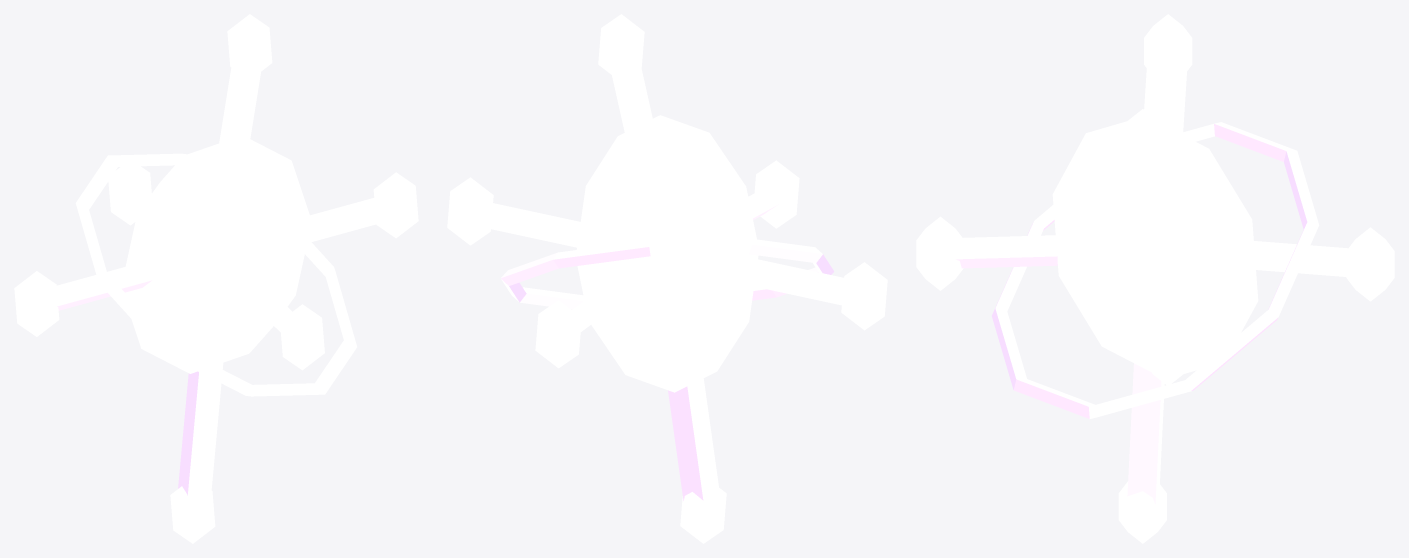
The model's file is spark.glb.
3 views of the same model, side by side, from view 1: azimuth 30°, elevation 25°; view 2: azimuth 150°, elevation 25°; view 3: azimuth 270°, elevation 25° (orthographic). The views are drawn at different scales.
Parts seen in each view (by area): view 1: SparkCore, BrokenArc, SparkRay_5, SparkRay_4, SparkPoint_3, SparkPoint_1, SparkRay_0, SparkRay_1, SparkPoint_4, SparkPoint_0, SparkPoint_5, SparkPoint_2 (+1 smaller); view 2: SparkCore, BrokenArc, SparkRay_5, SparkRay_1, SparkRay_0, SparkRay_4, SparkPoint_2, SparkPoint_1, SparkPoint_4, SparkPoint_0, SparkPoint_5, SparkPoint_3 (+2 smaller); view 3: SparkCore, BrokenArc, SparkRay_5, SparkRay_3, SparkRay_4, SparkPoint_0, SparkPoint_4, SparkPoint_2, SparkPoint_3, SparkRay_2, SparkPoint_5, SparkRay_0.
Part boxes in pixels (bbox=[...]): SparkCore: bbox=[125, 139, 311, 373]; BrokenArc: bbox=[75, 153, 356, 396]; SparkRay_5: bbox=[178, 363, 223, 498]; SparkRay_4: bbox=[219, 67, 260, 144]; SparkPoint_3: bbox=[280, 304, 324, 370]; SparkPoint_1: bbox=[14, 271, 59, 336]; SparkRay_0: bbox=[307, 196, 391, 243]; SparkRay_1: bbox=[56, 261, 152, 310]; SparkPoint_4: bbox=[227, 14, 272, 72]; SparkPoint_0: bbox=[373, 172, 418, 238]; SparkPoint_5: bbox=[170, 486, 215, 543]; SparkPoint_2: bbox=[108, 166, 151, 225]; SparkCore: bbox=[576, 115, 758, 392]; BrokenArc: bbox=[500, 238, 833, 309]; SparkRay_5: bbox=[668, 378, 718, 500]; SparkRay_1: bbox=[740, 256, 843, 305]; SparkRay_0: bbox=[477, 202, 580, 247]; SparkRay_4: bbox=[612, 69, 658, 154]; SparkPoint_2: bbox=[535, 300, 581, 368]; SparkPoint_1: bbox=[841, 262, 887, 330]; SparkPoint_4: bbox=[598, 14, 644, 76]; SparkPoint_0: bbox=[447, 177, 493, 245]; SparkPoint_5: bbox=[680, 486, 726, 543]; SparkPoint_3: bbox=[754, 160, 799, 228]; SparkCore: bbox=[1052, 116, 1258, 373]; BrokenArc: bbox=[992, 122, 1319, 418]; SparkRay_5: bbox=[1127, 363, 1164, 504]; SparkRay_3: bbox=[955, 235, 1057, 268]; SparkRay_4: bbox=[1142, 68, 1186, 150]; SparkPoint_0: bbox=[1144, 312, 1192, 386]; SparkPoint_4: bbox=[1144, 14, 1192, 84]; SparkPoint_2: bbox=[1346, 227, 1394, 301]; SparkPoint_3: bbox=[916, 216, 964, 290]; SparkRay_2: bbox=[1249, 240, 1352, 276]; SparkPoint_5: bbox=[1118, 481, 1166, 543]; SparkRay_0: bbox=[1144, 274, 1180, 328].
Bounding box in the file's own units: 0.8405 × 0.99 × 0.7566.
